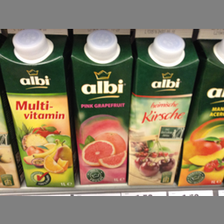juice: (1, 29, 76, 188), (128, 29, 199, 186), (71, 29, 134, 185)
